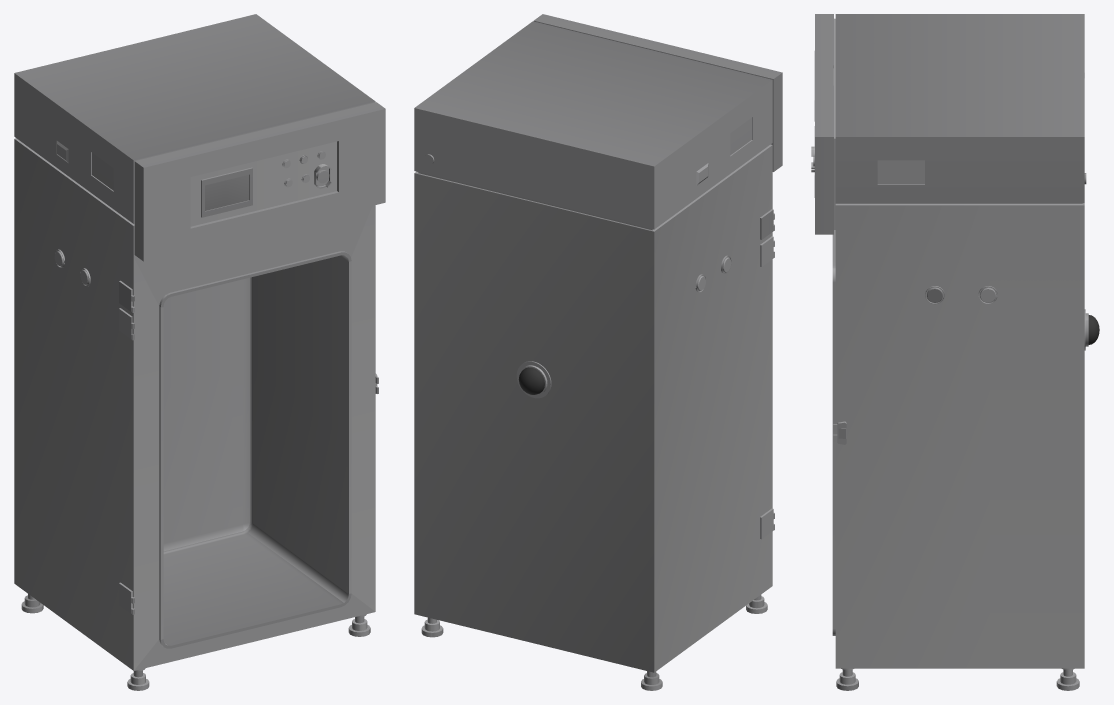
The model's file is SM_高温箱_001.fbx.
The picture shows the model from 3 angles, left to right: view 1: azimuth 30°, elevation 25°; view 2: azimuth 150°, elevation 25°; view 3: azimuth 270°, elevation 25°; orthographic projection. The views are drawn at different scales.
Parts seen in each view (by area): view 1: SM_高温箱_001; view 2: SM_高温箱_001; view 3: SM_高温箱_001.
Part boxes in pixels (x1,y1,x2,y2): SM_高温箱_001: (14,14,385,690); SM_高温箱_001: (414,14,782,690); SM_高温箱_001: (811,14,1099,690).
Size of the model in its own units: 716 by 1472 by 694.
